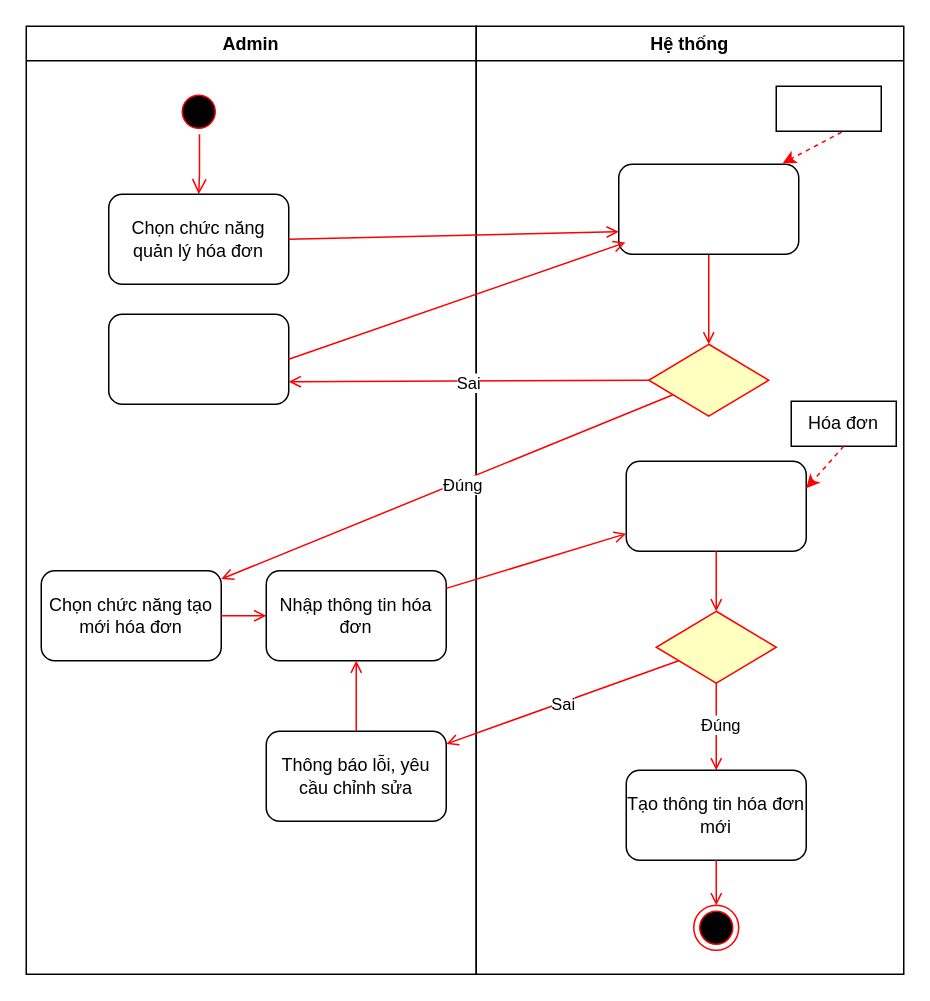
Some shapes in this 930 by 1001 pixel diagram are drawn without their labels. The shapes that lost their labels are listed below. From the top down, each one's centre as x and y in pixels, then its label:
At pixel 828 108: "Tài khoản".
At pixel 708 208: "Kiểm tra đăng nhập".
At pixel 198 358: "Yêu cầu đăng nhập".
At pixel 715 505: "Kiểm tra hóa đơn chư tồn tại".
